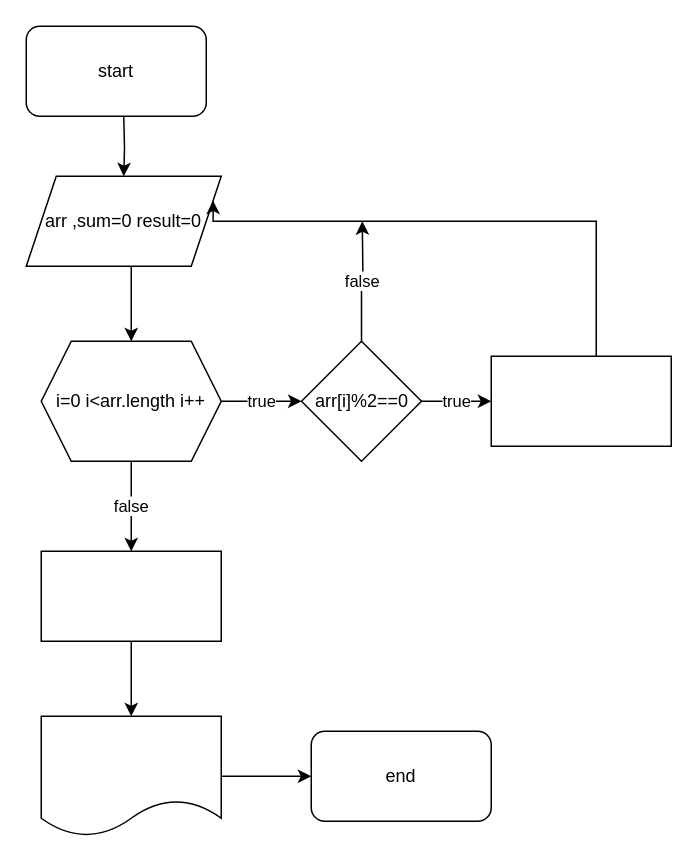
Some shapes in this 698 by 863 pixel diagram are drawn without their labels. Here are the shapes that lost their labels. From the top down, the centre of each, then its label:
the point at 580,400: sum=arr[i]+sum
the point at 130,595: sum=sum**2
the point at 130,775: Result
